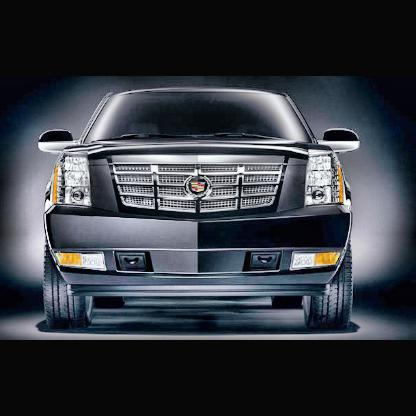Cadillac Escalade EXT Crew Cab 2007: (39, 86, 362, 331)
